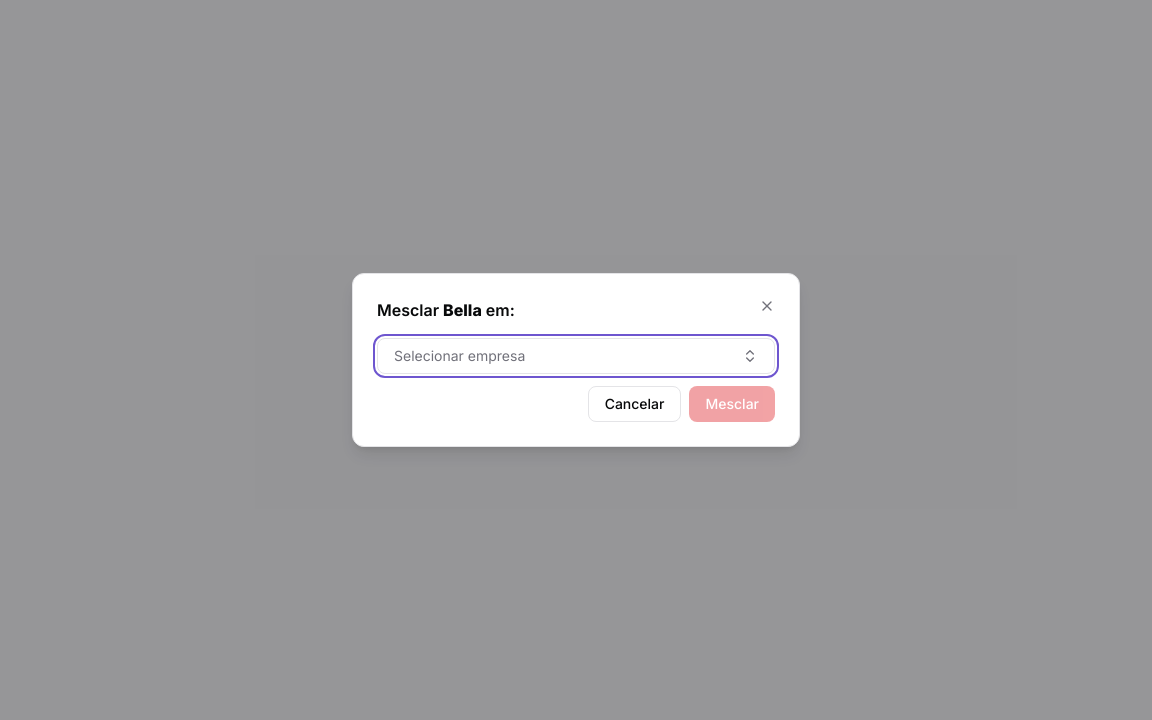
Test case: MergeCompanyDialog › shows other errors at the top
Click the dropdown named "Empresa que fica": (460, 356) [377,338,775,374]
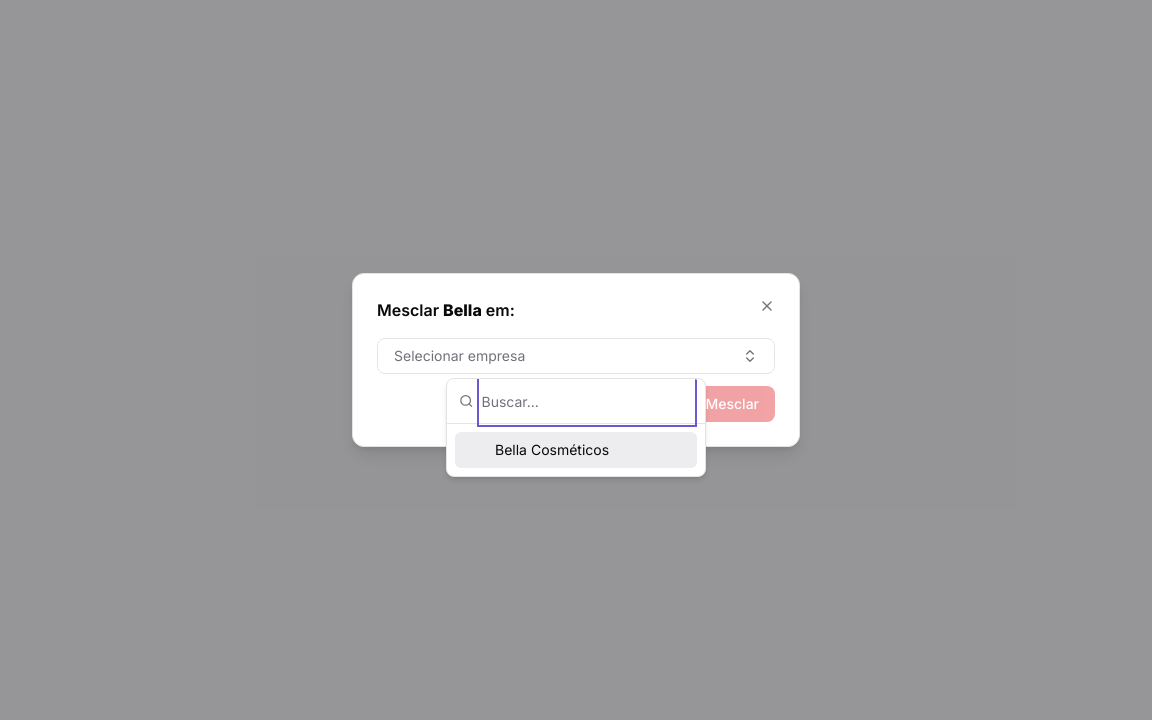
Click the option "Bella Cosméticos": (576, 450) [455,432,697,468]
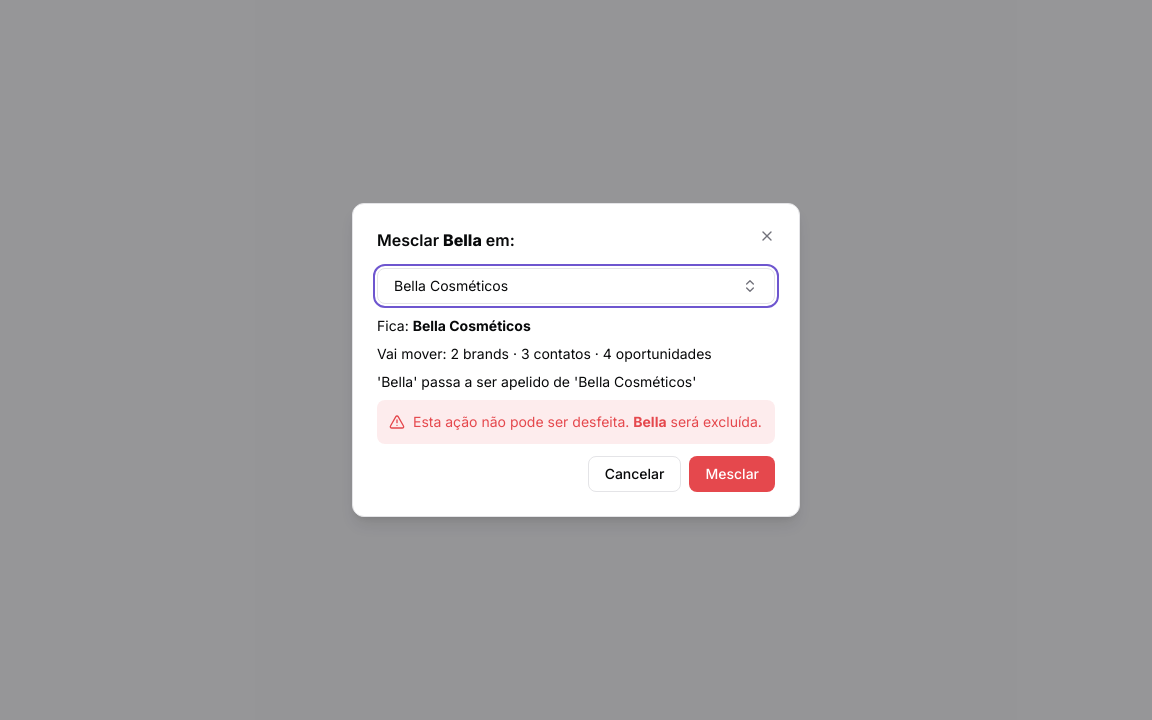
Click the button "Mesclar": (732, 474) [690,456,775,492]
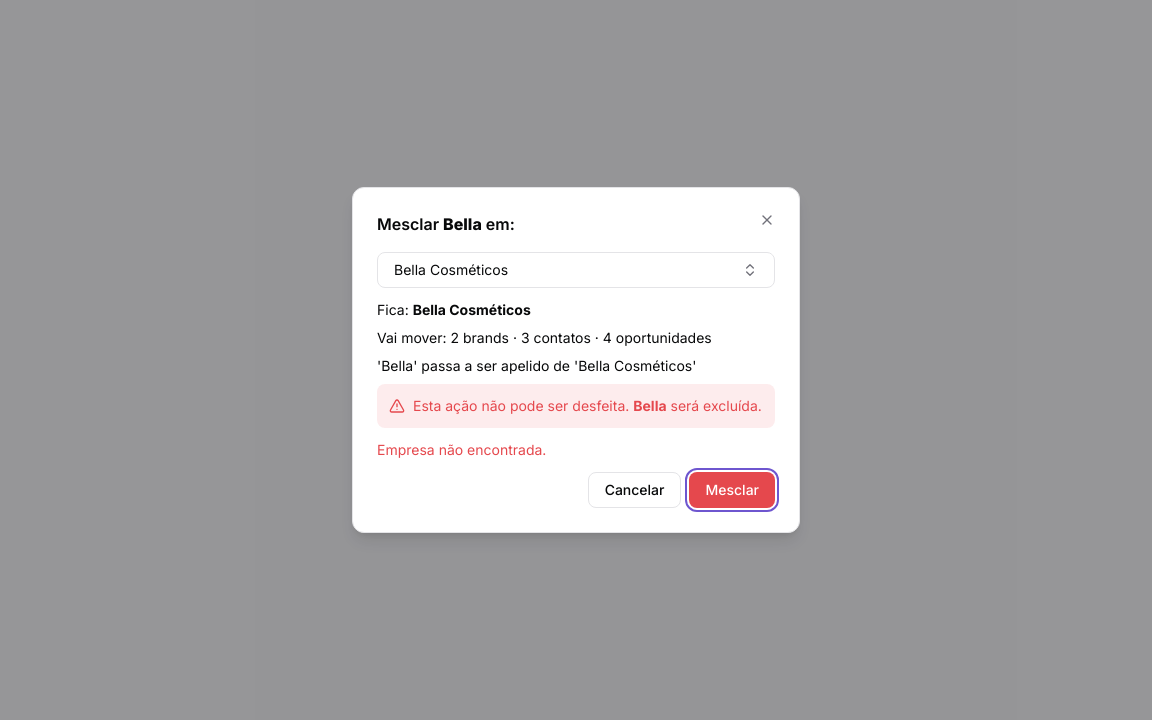
Expected: the message reads "Empresa não encontrada.", [377,441,546,458]
